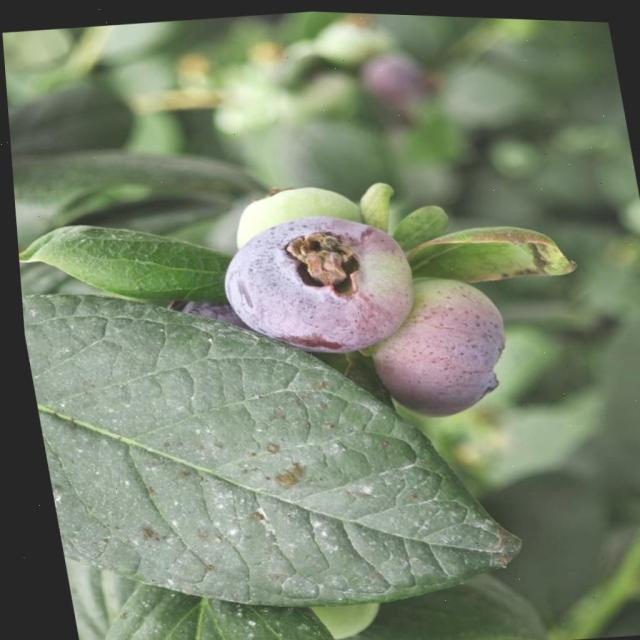Semi-RipeBlueBerry: (208, 201, 421, 366), (358, 270, 510, 420)
